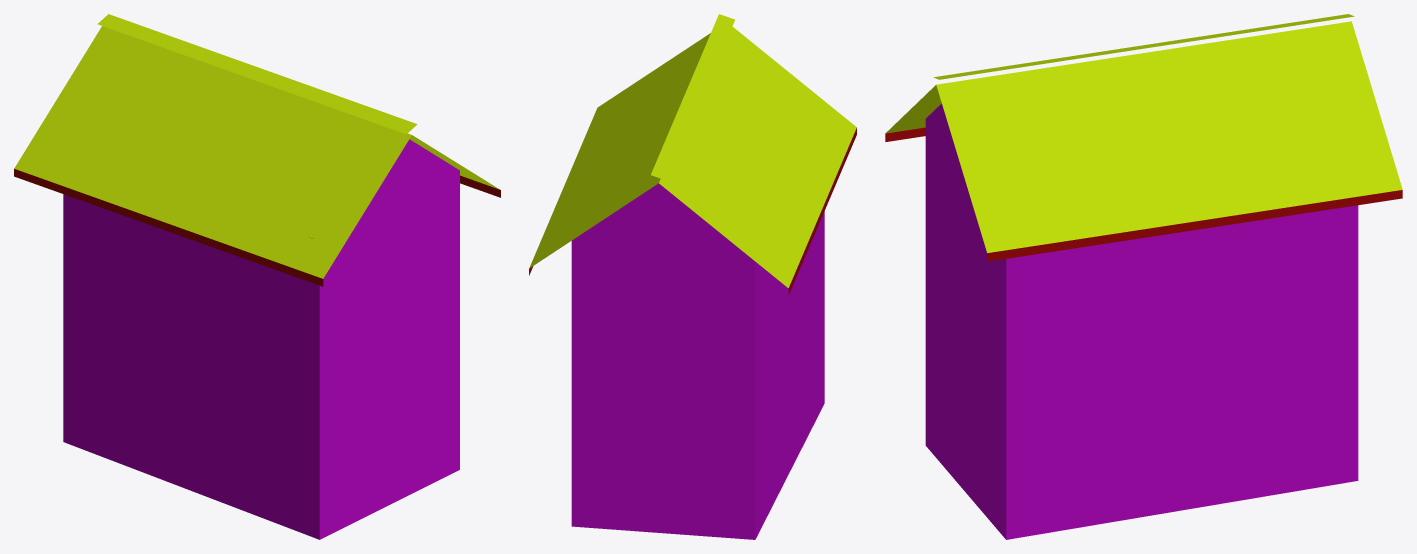
File: bgj_188.glb
3 views of the same model, side by side, from view 1: azimuth 30°, elevation 25°; view 2: azimuth 150°, elevation 25°; view 3: azimuth 270°, elevation 25° (orthographic). The views are drawn at different scales.
Parts seen in each view (by area): view 1: bgj_188; view 2: bgj_188; view 3: bgj_188.
Part boxes in pixels (x1,y1,x2,y2): bgj_188: (14,14,500,539); bgj_188: (529,14,856,539); bgj_188: (885,14,1402,539).
Size of the model in its own units: 5.48 by 5.88 by 6.55.
